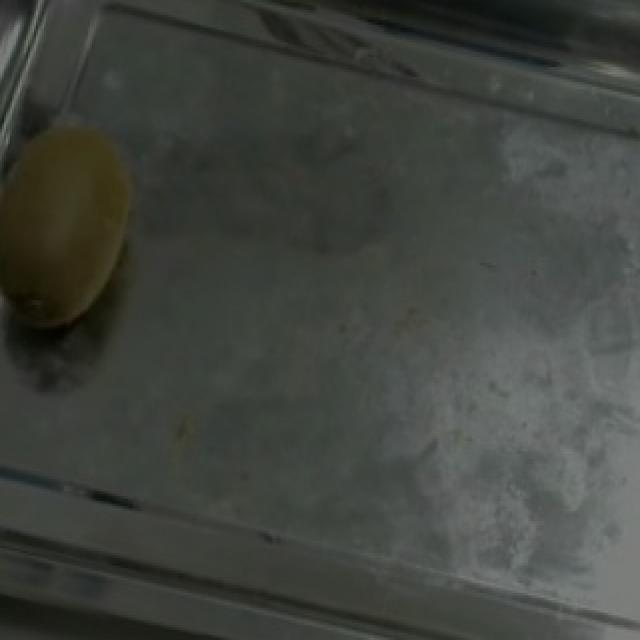Fruit: (0, 86, 176, 370)
